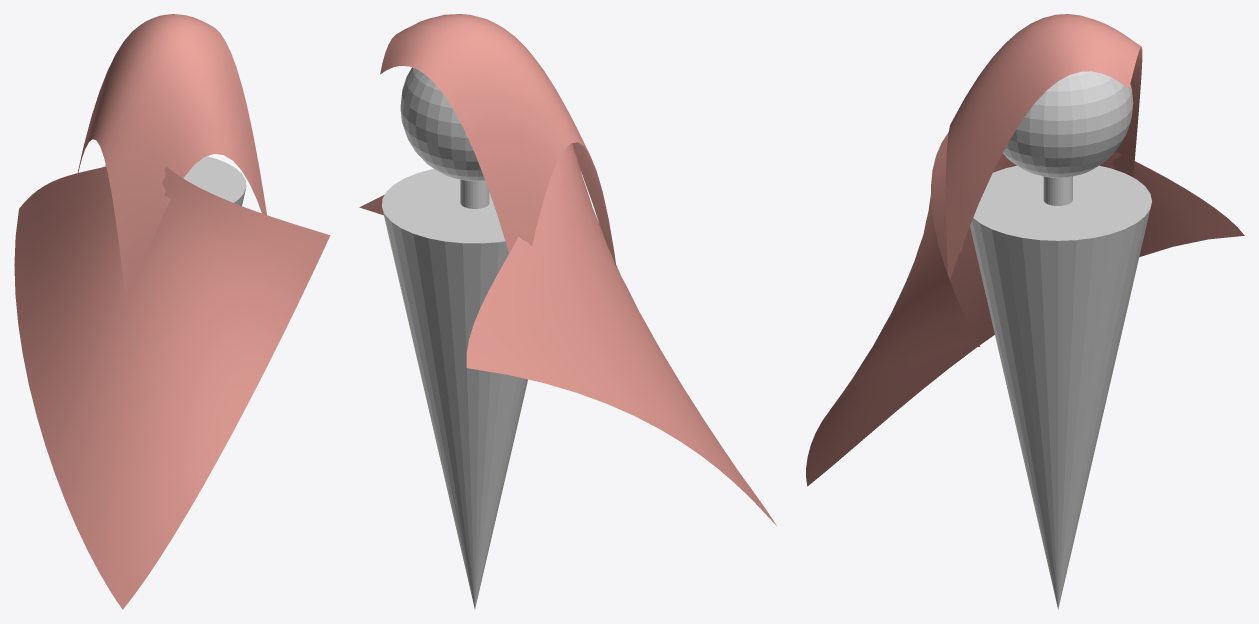
The model's file is little_red.fbx.
3 views of the same model, side by side, from view 1: azimuth 30°, elevation 25°; view 2: azimuth 150°, elevation 25°; view 3: azimuth 270°, elevation 25° (orthographic). The views are drawn at different scales.
Parts seen in each view (by area): view 1: SurfPatch.001, SurfPatch, Cone; view 2: SurfPatch.001, SurfPatch, Cone, Sphere; view 3: Cone, Sphere, SurfPatch.001, SurfPatch.
Part boxes in pixels (<box>): SurfPatch.001: <box>14,166,330,609</box>; SurfPatch: <box>75,14,266,293</box>; Cone: <box>102,156,246,205</box>; SurfPatch.001: <box>359,143,776,525</box>; SurfPatch: <box>380,14,616,266</box>; Cone: <box>382,169,522,608</box>; Sphere: <box>382,67,527,588</box>; Cone: <box>970,165,1151,608</box>; Sphere: <box>978,71,1150,609</box>; SurfPatch.001: <box>806,132,1244,486</box>; SurfPatch: <box>945,14,1142,279</box>.
Size of the model in its own units: 213 by 350 by 233.
